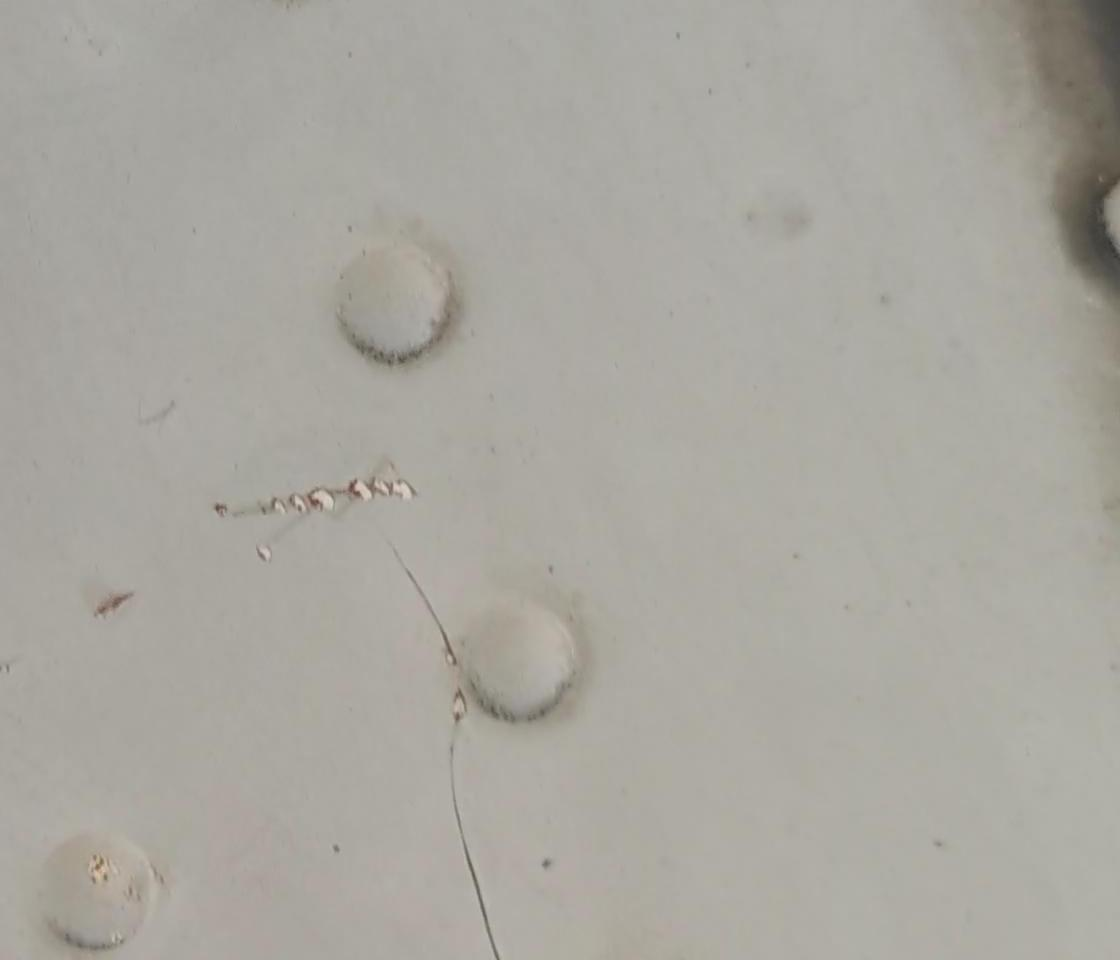paint_peel: (349, 471, 416, 507), (303, 478, 340, 518)
